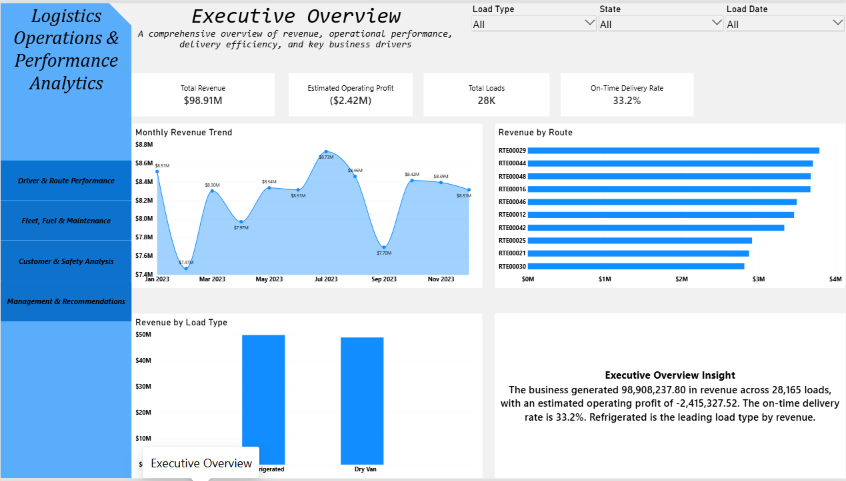

Layout of this report page (visuals, bound fields, positions):
{"tool":"powerbi","page":{"name":"Executive Overview","canvas":[3840,2160],"ordinal":0},"visuals":[{"type":"shape","box":[0,0,595.1,2157.7],"z":0},{"type":"cardVisual","fields":{"Data":["Loads.Total Revenue"]},"box":[595.1,318,649.6,195.3],"z":1000},{"type":"cardVisual","fields":{"Data":["Loads.Estimated Operating Profit"]},"box":[1308.3,318,563.3,195.3],"z":2000},{"type":"cardVisual","fields":{"Data":["Loads.Total Loads"]},"box":[1921.5,318,572.4,195.3],"z":3000},{"type":"cardVisual","fields":{"Data":["Delivery Events.On-Time Delivery Rate"]},"box":[2543.9,318,604.2,195.3],"z":4000},{"type":"lineChart","title":"Monthly Revenue Trend","fields":{"Category":["Loads.load_date.Variation.Date Hierarchy.Year","Loads.load_date.Variation.Date Hierarchy.Month"],"Y":["Loads.Total Revenue"]},"box":[595.1,545.1,1594.5,749.5],"z":5000},{"type":"clusteredBarChart","title":"Revenue by Route","fields":{"Category":["Loads.route_id"],"Y":["Loads.Total Revenue"]},"box":[2244.1,513.3,1594.5,749.5],"z":6000},{"type":"clusteredColumnChart","title":"Revenue by Load Type","fields":{"Category":["Loads.load_type"],"Y":["Loads.Total Revenue"]},"box":[595.1,1408.2,1594.5,749.5],"z":7000},{"type":"cardVisual","fields":{"Data":["Loads.Executive Overview Insight"]},"box":[2244.1,1408.2,1594.5,749.5],"z":8000},{"type":"textbox","box":[595.1,0,1490,277.1],"z":9000},{"type":"actionButton","box":[0,713.2,595.1,181.7],"z":10000},{"type":"actionButton","box":[0,894.9,595.1,181.7],"z":11000},{"type":"actionButton","box":[0,1076.6,595.1,186.2],"z":12000},{"type":"actionButton","box":[0,1262.8,595.1,181.7],"z":13000},{"type":"textbox","box":[0,0,595.1,417.9],"z":14000},{"type":"slicer","fields":{"Values":["Loads.load_type"]},"box":[2135,0,576.9,209],"z":15000},{"type":"slicer","fields":{"Values":["Safety Incidents.location_state"]},"box":[2711.9,0,576.9,209],"z":16000},{"type":"slicer","fields":{"Values":["Loads.load_date"]},"box":[3288.9,0,549.7,209],"z":17000}]}

Visuals, with their boxes on the page's 3840x2160 design canvas (x1, y1, x2, y2). These are canvas units, not pixel positions in the 846x481 screenshot, which may show the page scaled, cropped or inside an application window:
shape: select_region(0, 0, 595, 2158)
cardVisual - Loads.Total Revenue: select_region(595, 318, 1245, 513)
cardVisual - Loads.Estimated Operating Profit: select_region(1308, 318, 1872, 513)
cardVisual - Loads.Total Loads: select_region(1922, 318, 2494, 513)
cardVisual - Delivery Events.On-Time Delivery Rate: select_region(2544, 318, 3148, 513)
"Monthly Revenue Trend" lineChart: select_region(595, 545, 2190, 1295)
"Revenue by Route" clusteredBarChart: select_region(2244, 513, 3839, 1263)
"Revenue by Load Type" clusteredColumnChart: select_region(595, 1408, 2190, 2158)
cardVisual - Loads.Executive Overview Insight: select_region(2244, 1408, 3839, 2158)
textbox: select_region(595, 0, 2085, 277)
actionButton: select_region(0, 713, 595, 895)
actionButton: select_region(0, 895, 595, 1077)
actionButton: select_region(0, 1077, 595, 1263)
actionButton: select_region(0, 1263, 595, 1444)
textbox: select_region(0, 0, 595, 418)
slicer - Loads.load_type: select_region(2135, 0, 2712, 209)
slicer - Safety Incidents.location_state: select_region(2712, 0, 3289, 209)
slicer - Loads.load_date: select_region(3289, 0, 3839, 209)
